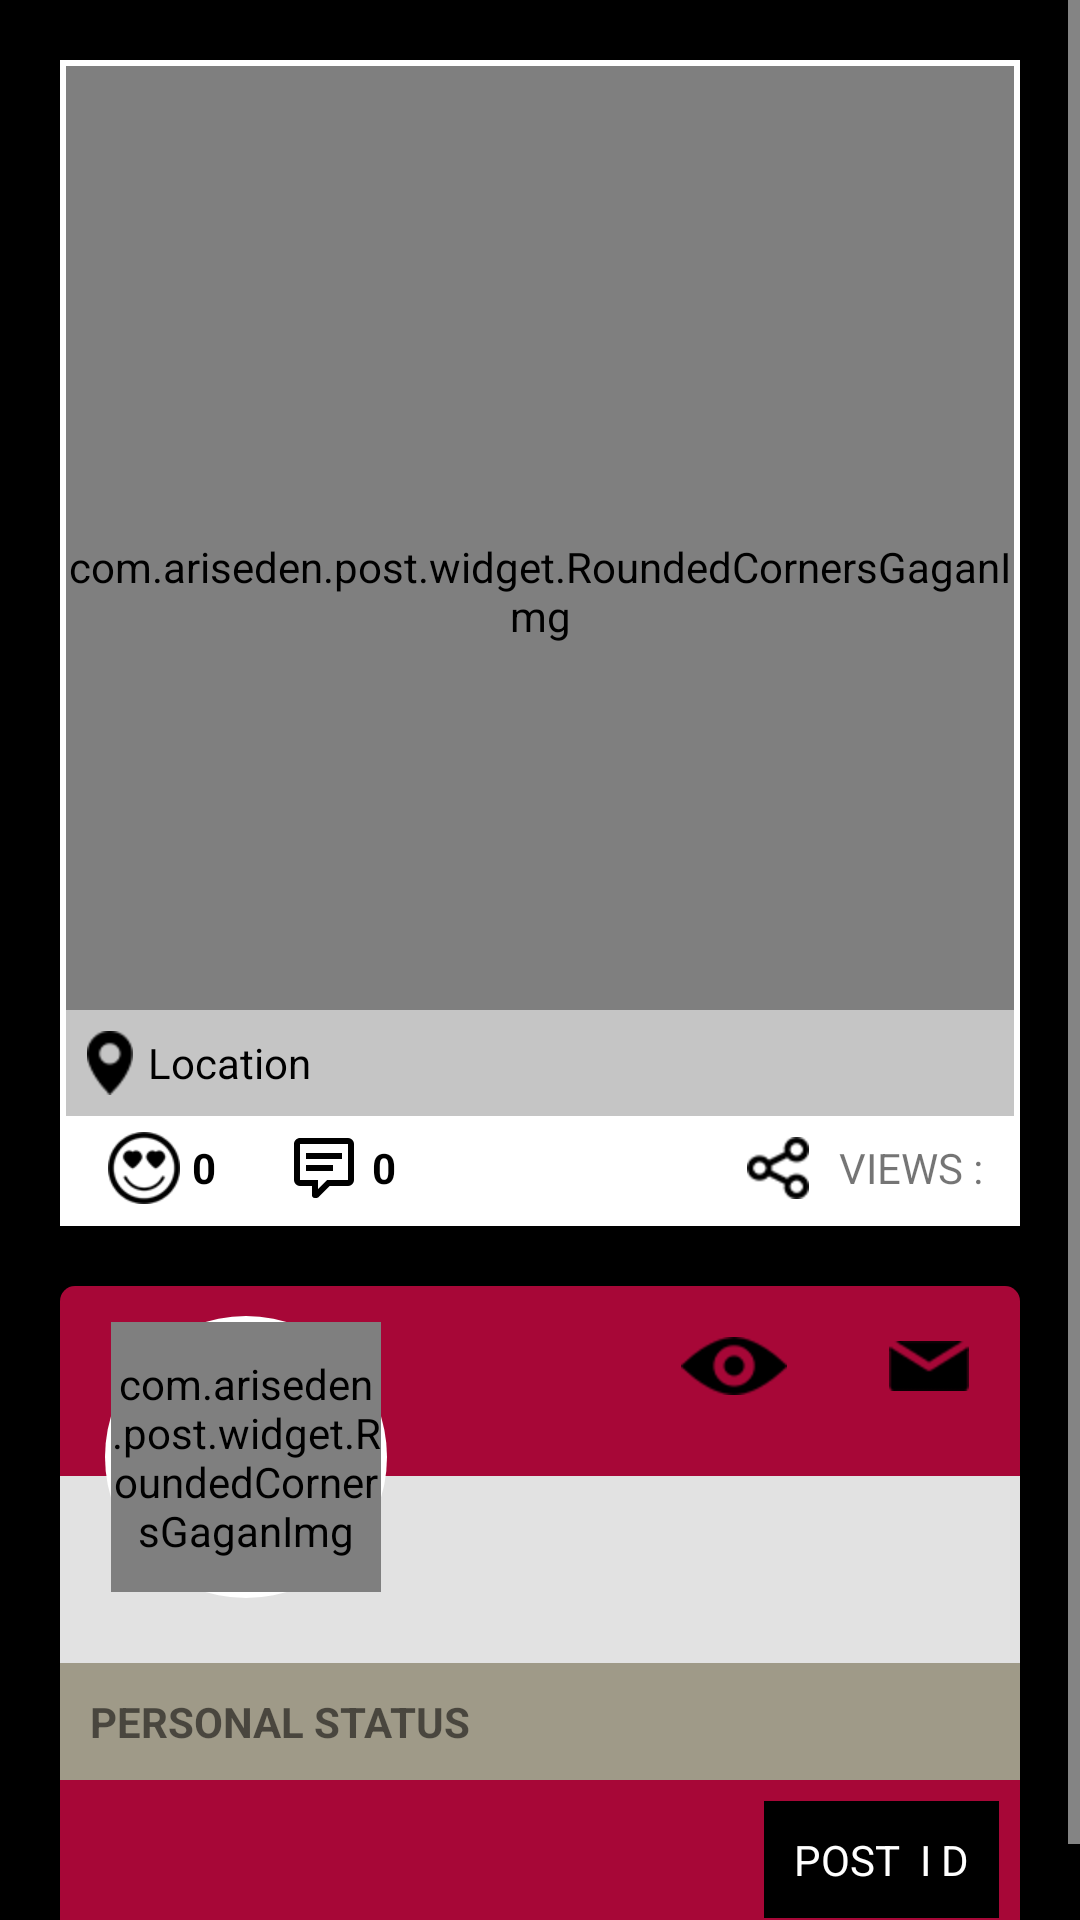

Where to tap for icons on this 1080px x 1920px app screen, as (x=x, y=y):
eyes: (x=734, y=1366)
messageicon: (x=929, y=1366)
share: (x=778, y=1168)
